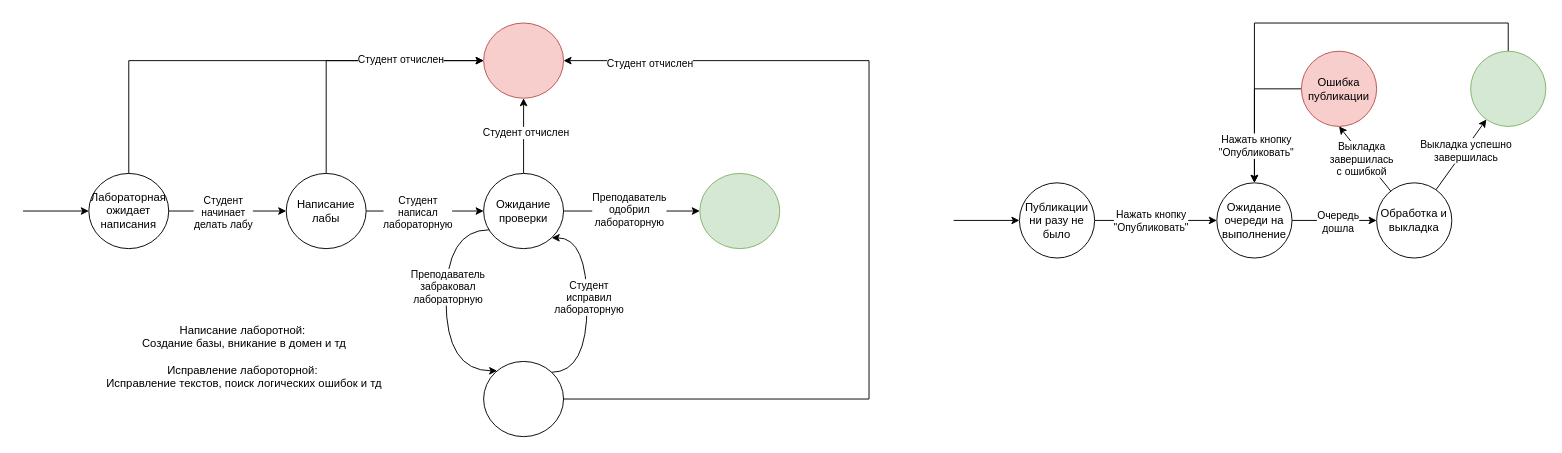
Some shapes in this 1562 by 453 pixel diagram are drawn without their labels. Here are the shapes that lost their labels. From the top down, the centre of each, then its label:
At point (523, 60): "Лабораторная заброшена".
At point (1508, 88): "Публикация успешно завершена".
At point (739, 210): "Лабораторная завершена".
At point (523, 398): "Исправление лабораторной".
